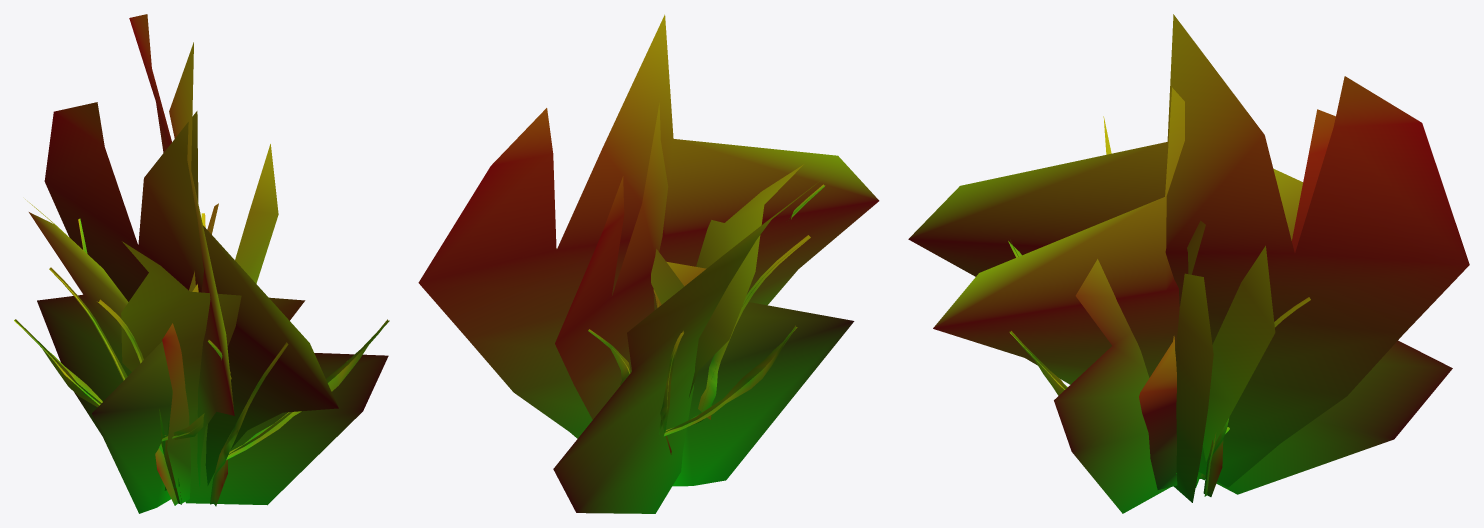
The model's file is Dead Finish_LOD0_Var7_ucokaamia.fbx.
3 renders of one model, left to right at view 1: azimuth 30°, elevation 25°; view 2: azimuth 150°, elevation 25°; view 3: azimuth 270°, elevation 25°, orthographic. The views are drawn at different scales.
Visible parts, largest first — view 1: _6770_Var7_LOD0; view 2: _6770_Var7_LOD0; view 3: _6770_Var7_LOD0.
Boxes of the visible parts, x1,y1,x2,y2 form: _6770_Var7_LOD0: (14,14,389,513); _6770_Var7_LOD0: (418,14,879,513); _6770_Var7_LOD0: (908,14,1469,513).
Bounding box in the file's own units: 29.24 × 43.62 × 45.16.
